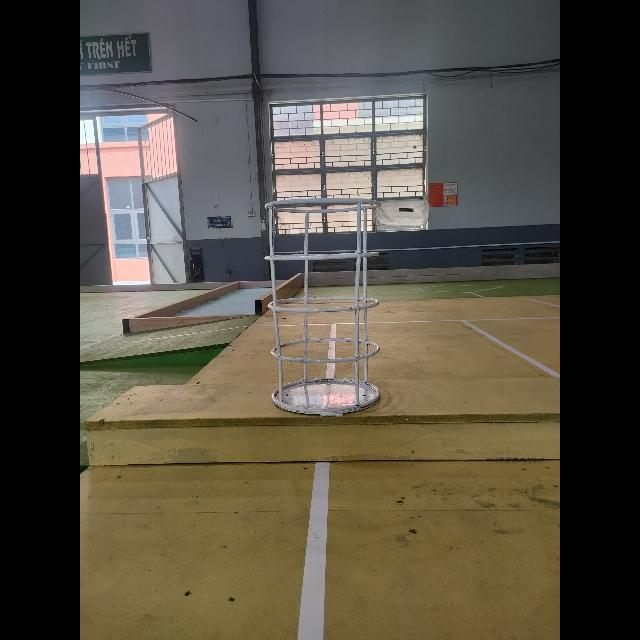S: (264, 197, 383, 416)
